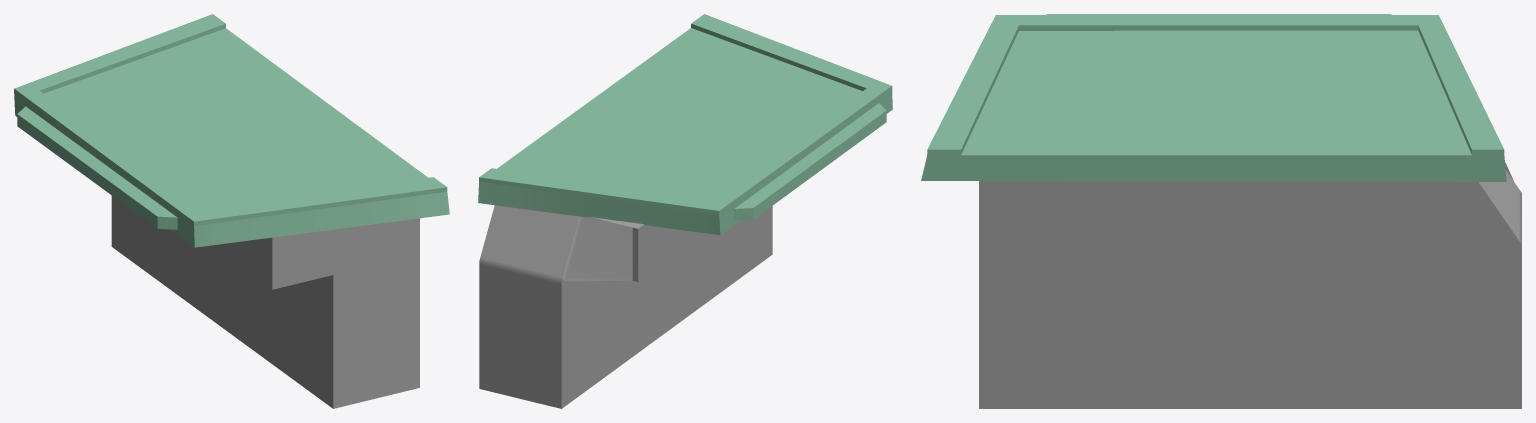
The picture shows the model from 3 angles, left to right: view 1: azimuth 30°, elevation 25°; view 2: azimuth 150°, elevation 25°; view 3: azimuth 270°, elevation 25°; orthographic projection. The views are drawn at different scales.
Parts seen in each view (by area): view 1: polySurface32, polySurface4, polySurface46; view 2: polySurface32, polySurface4, polySurface46; view 3: polySurface4, polySurface32.
Boxes of the visible parts, bbox=[...] form: polySurface32: bbox=[14, 14, 449, 247]; polySurface4: bbox=[111, 195, 419, 408]; polySurface46: bbox=[17, 106, 177, 229]; polySurface32: bbox=[478, 14, 892, 235]; polySurface4: bbox=[479, 205, 772, 408]; polySurface46: bbox=[734, 103, 886, 220]; polySurface4: bbox=[979, 162, 1521, 408]; polySurface32: bbox=[921, 15, 1506, 181].
Bounding box in the file's own units: 161 × 137 × 283.
